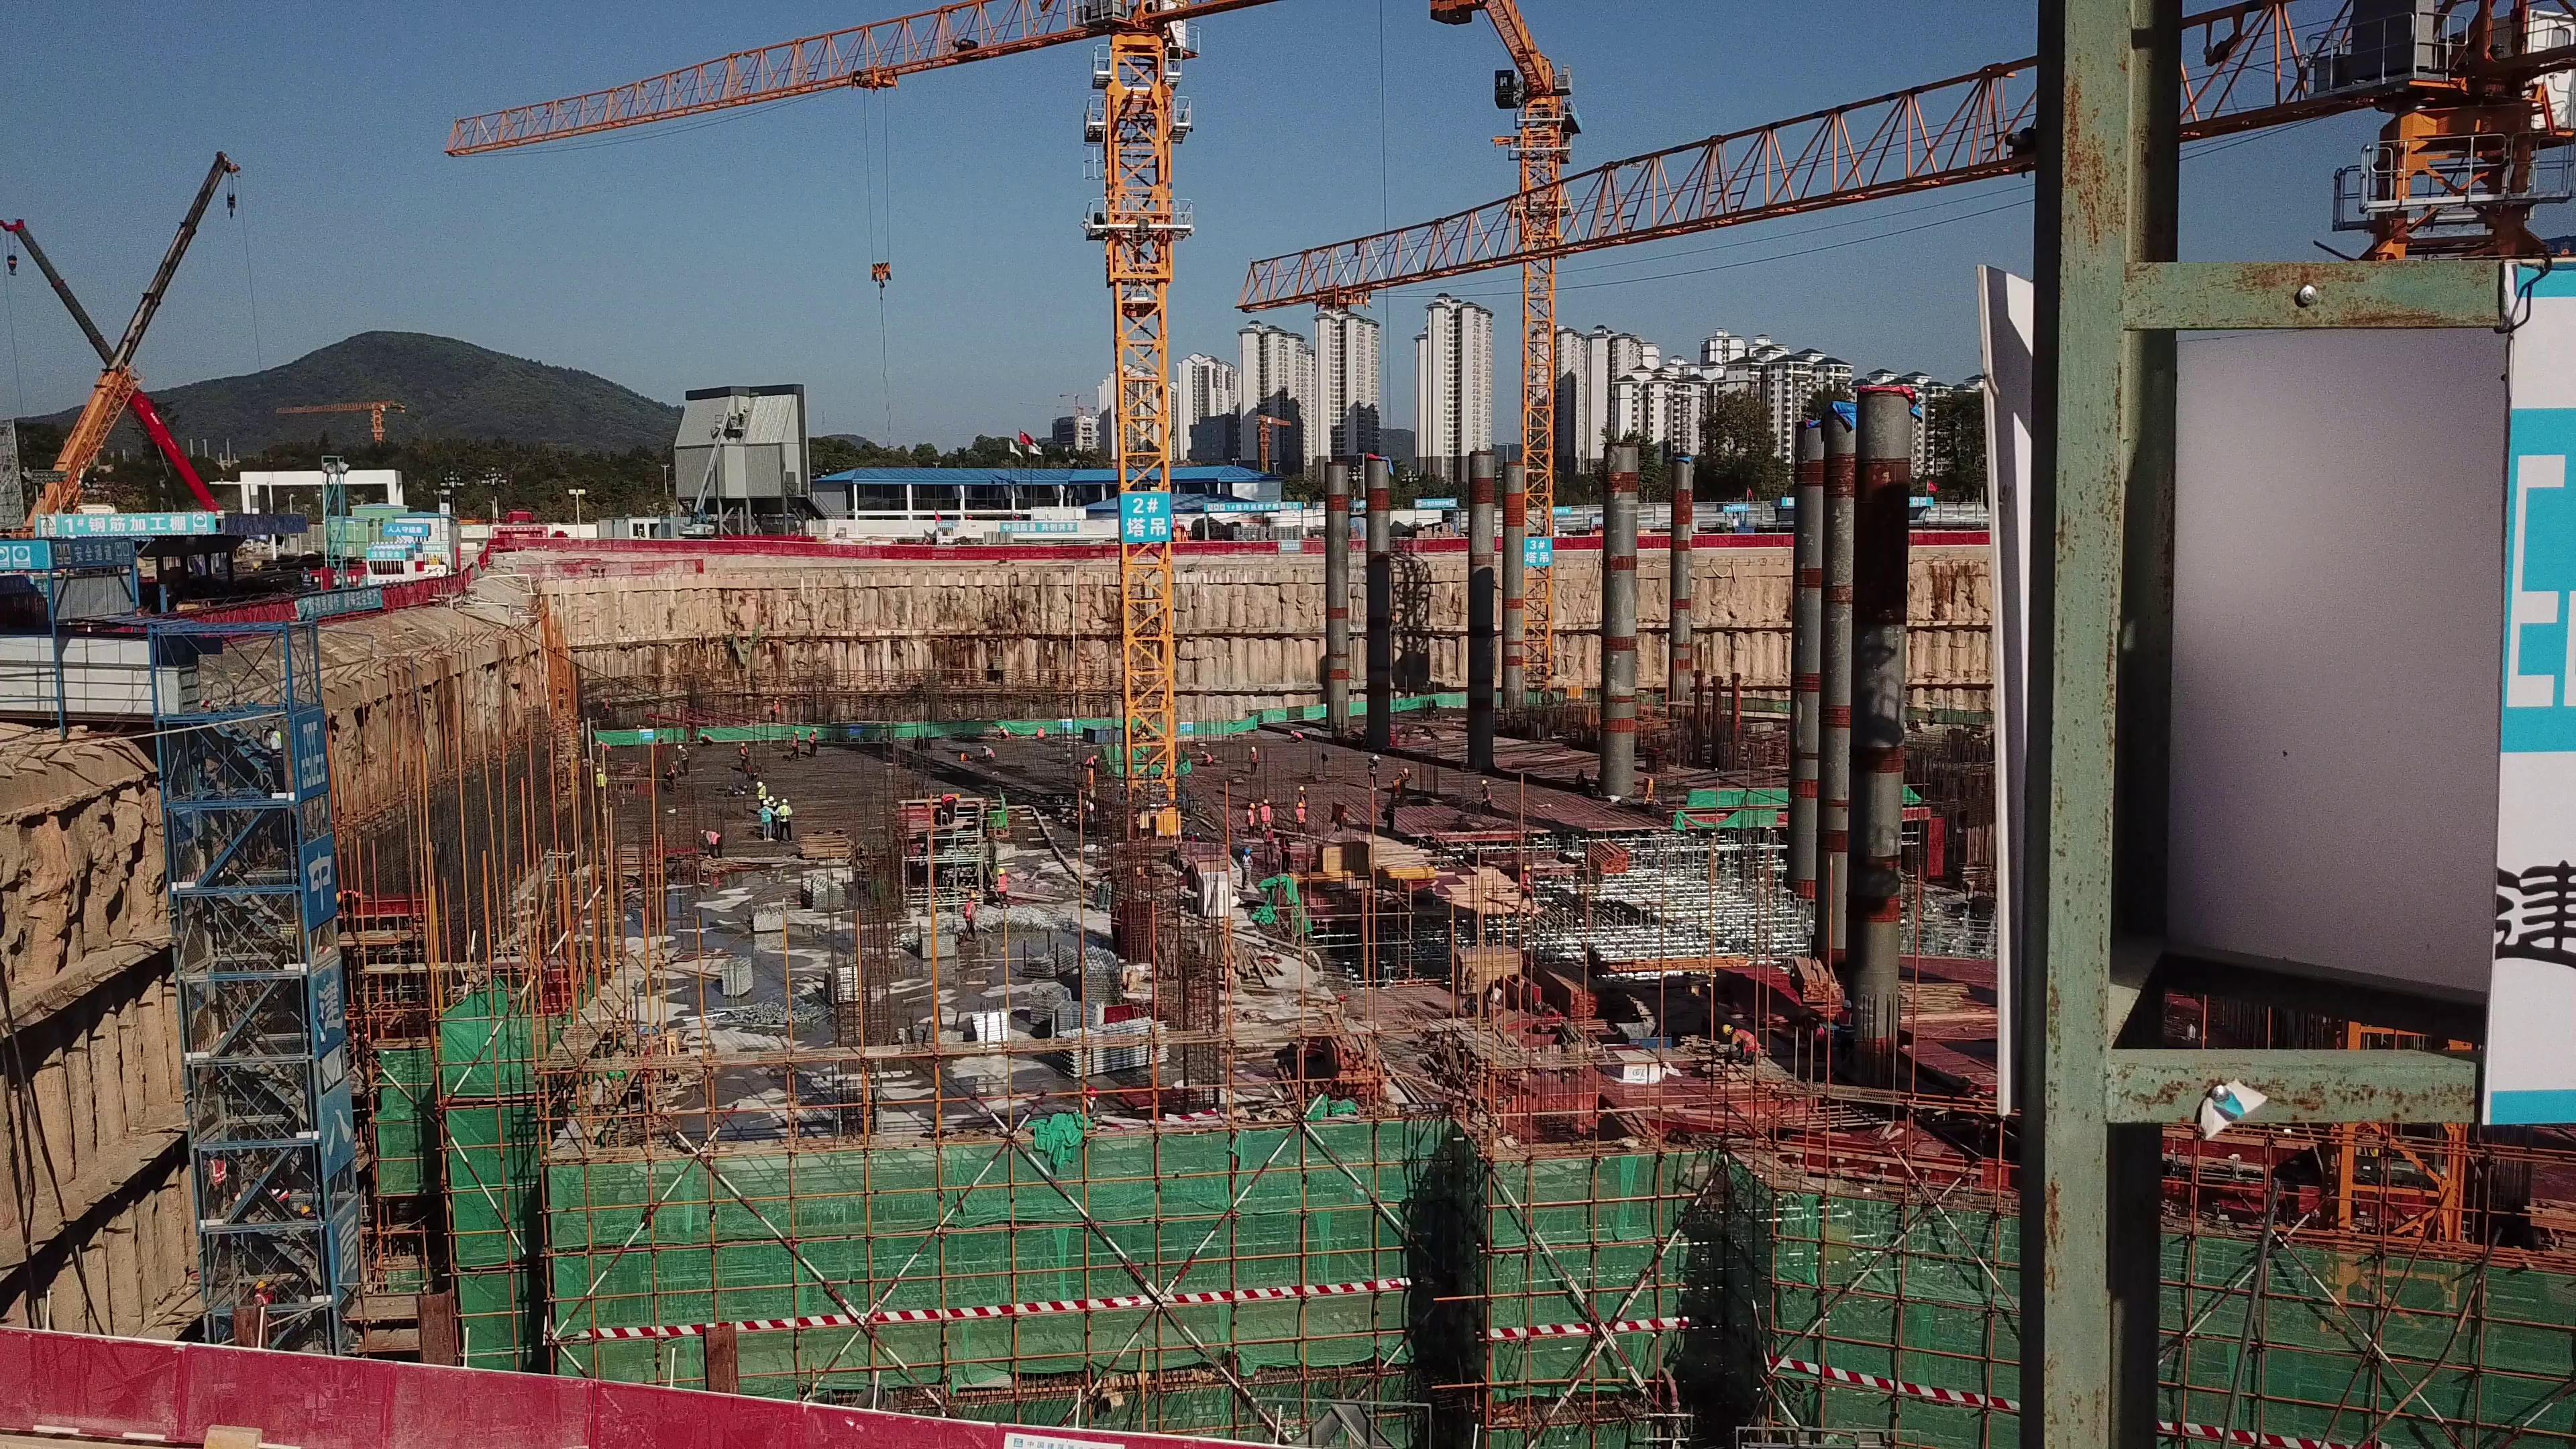helmet: (758, 776, 792, 810), (1246, 798, 1272, 808), (1720, 1020, 1735, 1035)
person: (753, 781, 793, 841), (1714, 1022, 1764, 1067), (1245, 800, 1281, 837), (692, 822, 724, 856), (1290, 784, 1309, 837), (961, 891, 978, 942), (996, 862, 1014, 909)
